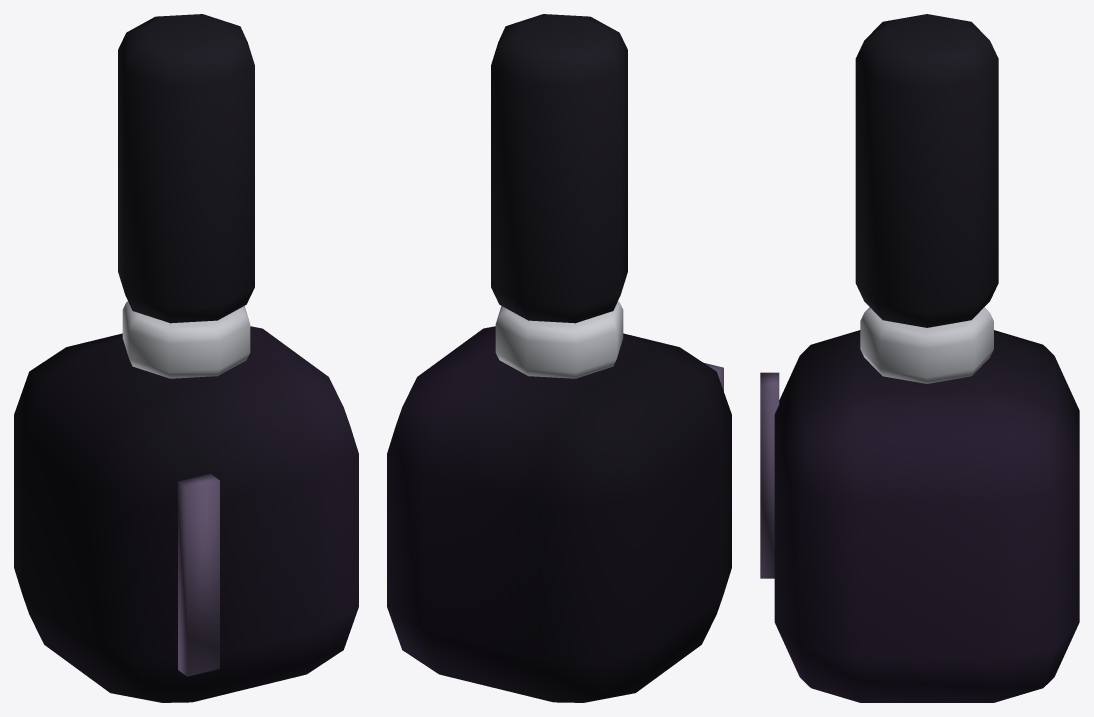
Rendered from nail_polish.glb.
3 renders of one model, left to right at view 1: azimuth 30°, elevation 25°; view 2: azimuth 150°, elevation 25°; view 3: azimuth 270°, elevation 25°, orthographic.
Parts seen in each view (by area): view 1: nail_polish; view 2: nail_polish; view 3: nail_polish.
Part boxes in pixels (x1,y1,x2,y2): nail_polish: [14, 14, 358, 702]; nail_polish: [387, 14, 731, 702]; nail_polish: [760, 14, 1079, 702].
Bounding box in the file's own units: 0.032 × 0.074 × 0.0335.
